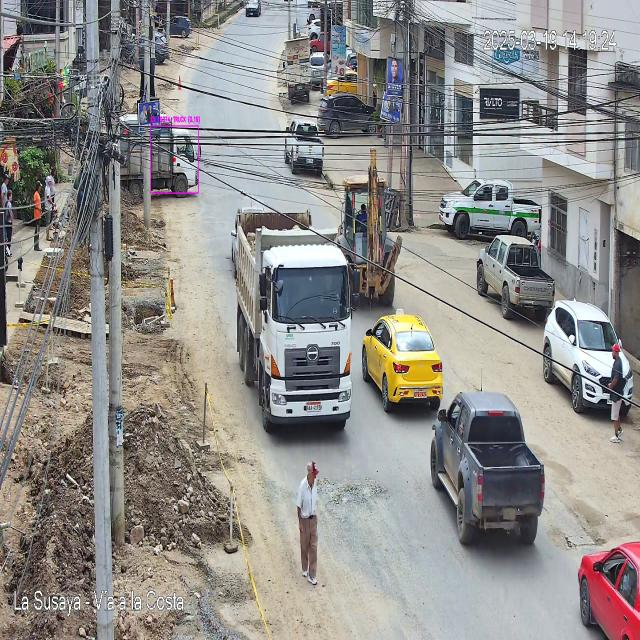CMT: (432, 392, 546, 546), (476, 234, 556, 324)
SED: (362, 314, 444, 412)
TRUCK: (236, 210, 352, 431)
